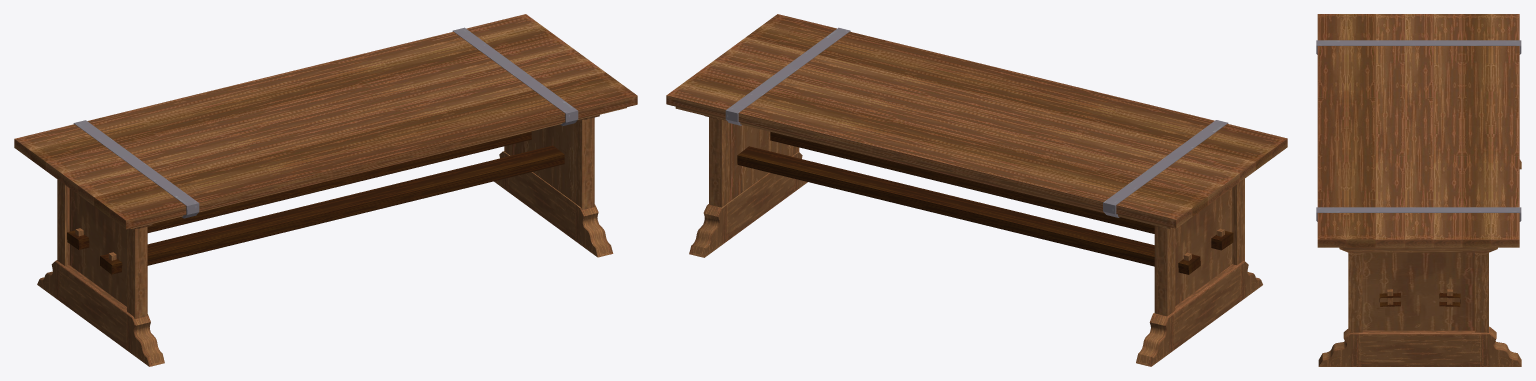
Rendered from table_large.glb.
The picture shows the model from 3 angles, left to right: view 1: azimuth 30°, elevation 25°; view 2: azimuth 150°, elevation 25°; view 3: azimuth 270°, elevation 25°; orthographic projection. The views are drawn at different scales.
Parts seen in each view (by area): view 1: Table_Large; view 2: Table_Large; view 3: Table_Large.
Boxes of the visible parts, <box> form: Table_Large: <box>14,14,637,366</box>; Table_Large: <box>666,14,1287,366</box>; Table_Large: <box>1316,14,1521,366</box>.
Bounding box in the file's own units: 2.85 × 0.8134 × 1.1.
Materials: 2 (2 with a texture image).
